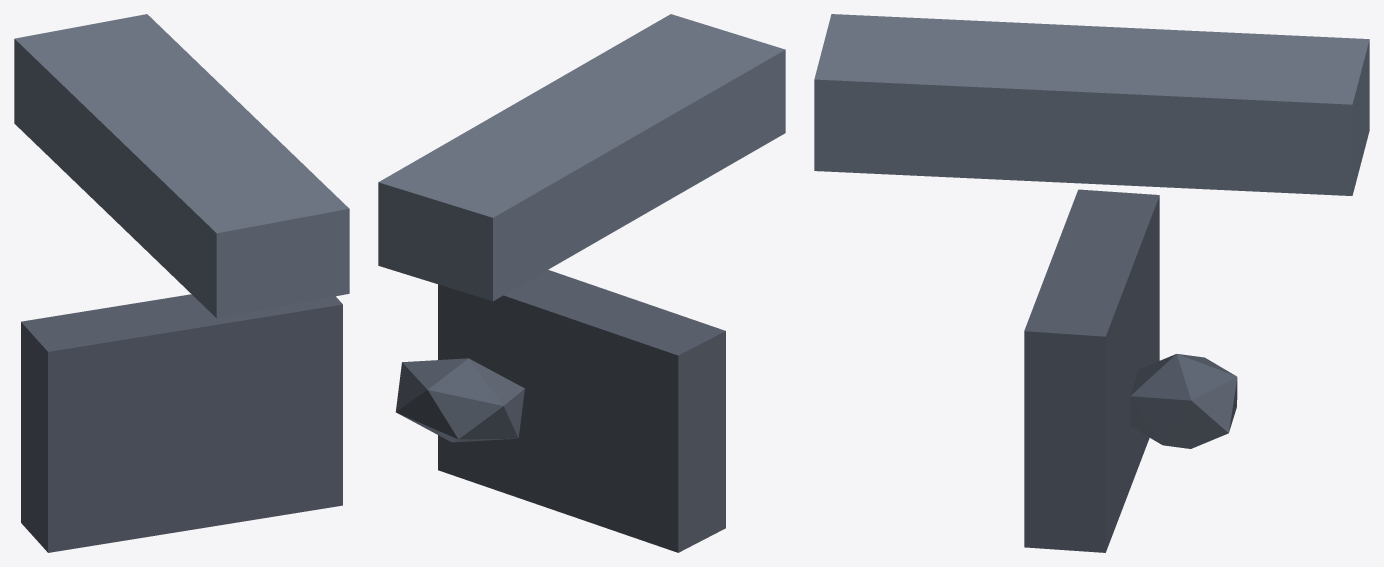
Rendered from EXTW_EastMarker_01.glb.
3 views of the same model, side by side, from view 1: azimuth 30°, elevation 25°; view 2: azimuth 150°, elevation 25°; view 3: azimuth 270°, elevation 25° (orthographic). The views are drawn at different scales.
Visible parts, largest first — view 1: EXTW_EastMarker_01; view 2: EXTW_EastMarker_01; view 3: EXTW_EastMarker_01.
Part boxes in pixels (left/top/right/bottom): EXTW_EastMarker_01: left=14, top=14, right=349, bottom=552; EXTW_EastMarker_01: left=378, top=14, right=785, bottom=552; EXTW_EastMarker_01: left=814, top=14, right=1369, bottom=552.
Bounding box in the file's own units: 0.7592 × 1.01 × 1.21.
